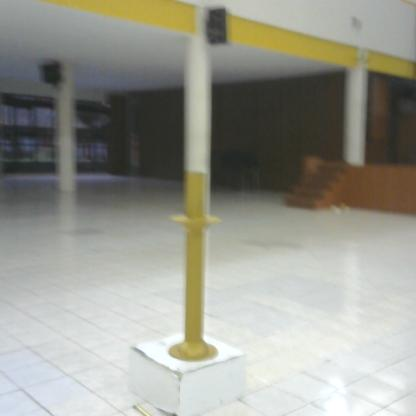pole: (167, 167, 222, 369)
